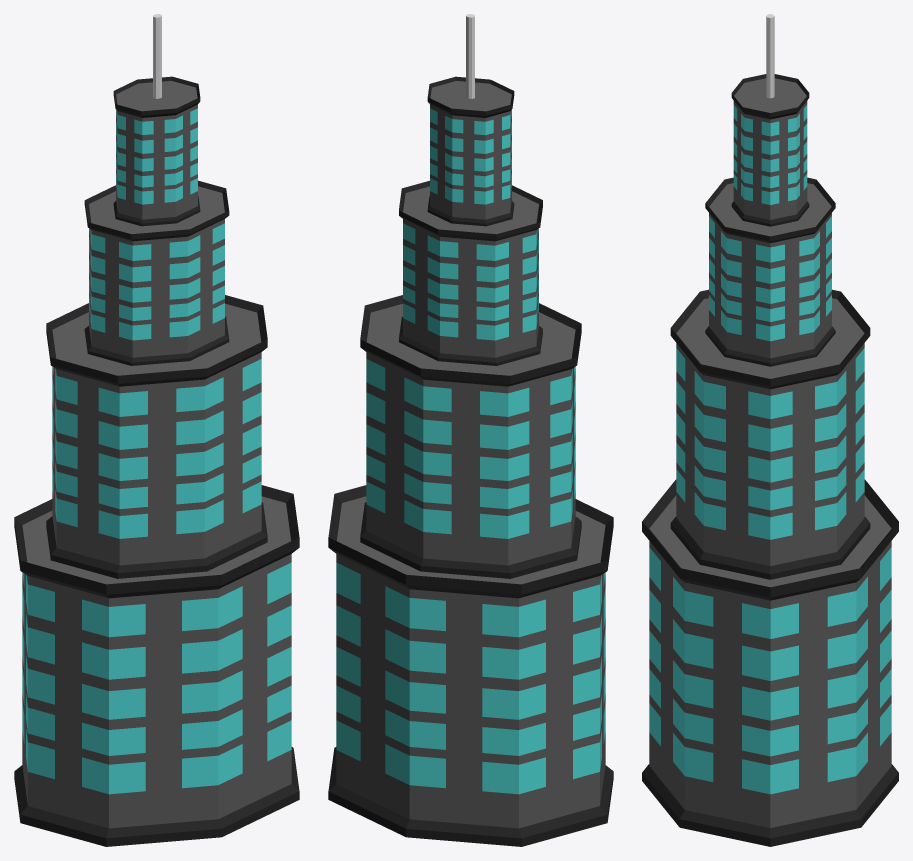
The model's file is Skyscraper3.fbx.
The picture shows the model from 3 angles, left to right: view 1: azimuth 30°, elevation 25°; view 2: azimuth 150°, elevation 25°; view 3: azimuth 270°, elevation 25°; orthographic projection.
Parts seen in each view (by area): view 1: Cylinder, Cylinder.001, Cylinder.002, Cylinder.003, Cylinder.004; view 2: Cylinder, Cylinder.001, Cylinder.002, Cylinder.003, Cylinder.004; view 3: Cylinder, Cylinder.001, Cylinder.002, Cylinder.003, Cylinder.004.
Part boxes in pixels (box(x1,y1,x2,y2)): Cylinder: box(14, 485, 299, 846); Cylinder.001: box(46, 295, 267, 578); Cylinder.002: box(84, 180, 229, 365); Cylinder.003: box(113, 76, 200, 226); Cylinder.004: box(153, 14, 161, 98); Cylinder: box(328, 485, 613, 846); Cylinder.001: box(360, 295, 581, 578); Cylinder.002: box(399, 180, 542, 365); Cylinder.003: box(427, 76, 514, 226); Cylinder.004: box(466, 14, 474, 98); Cylinder: box(642, 479, 898, 846); Cylinder.001: box(670, 289, 870, 579); Cylinder.002: box(705, 177, 835, 366); Cylinder.003: box(731, 74, 809, 226); Cylinder.004: box(766, 14, 774, 98).
Size of the model in its own units: 5475 by 14815 by 4506.
